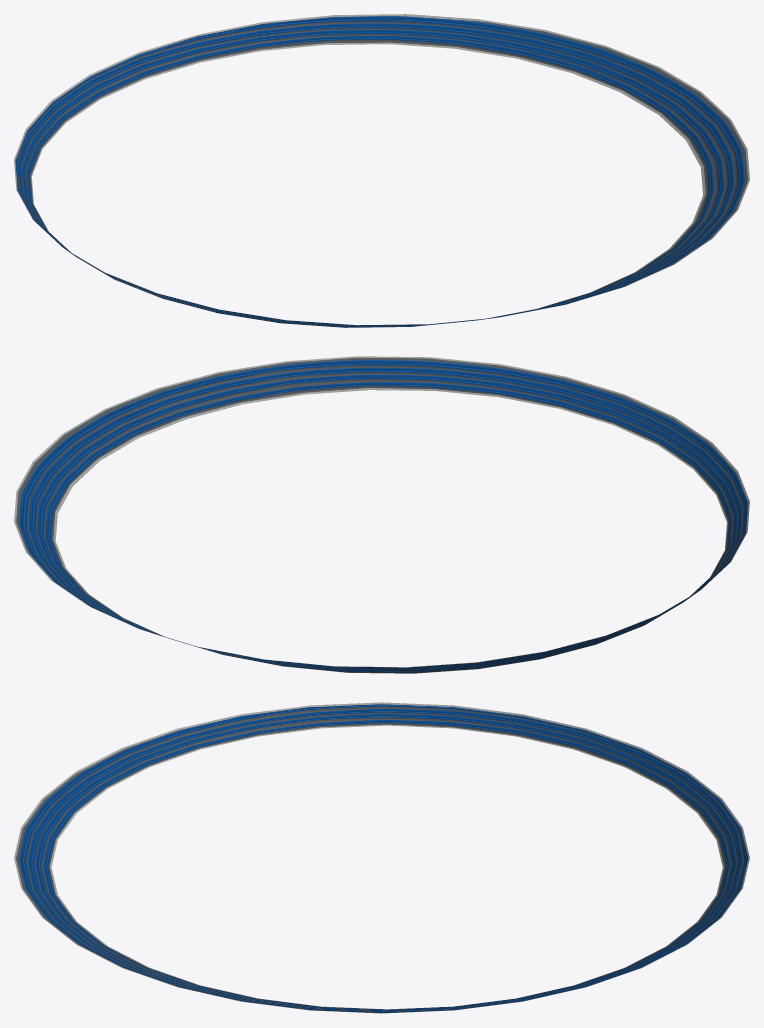
Rendered from Stairs.fbx.
3 views of the same model, one above another, from view 1: azimuth 30°, elevation 25°; view 2: azimuth 150°, elevation 25°; view 3: azimuth 270°, elevation 25° (orthographic).
Parts seen in each view (by area): view 1: Stairs; view 2: Stairs; view 3: Stairs.
Part boxes in pixels (<box>): Stairs: <box>14,14,749,327</box>; Stairs: <box>14,356,749,673</box>; Stairs: <box>14,702,749,1013</box>.
Bounding box in the file's own units: 19639 × 451 × 19639.
1 material, 1 textured.
